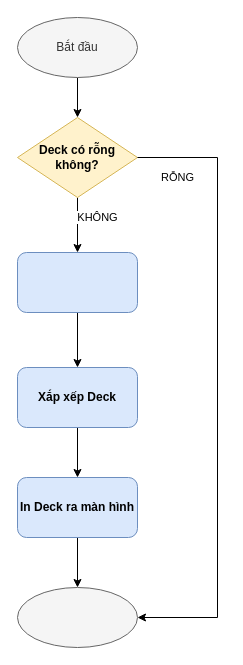
Some shapes in this 243 by 665 pixel diagram are drawn without their labels. Here are the shapes that lost their labels. From the top down, the box of each, then its label:
(16, 252, 138, 312): Chọn cách xắp xếp (alphabet/ reviewCount)
(16, 586, 138, 648): Kết thúc
